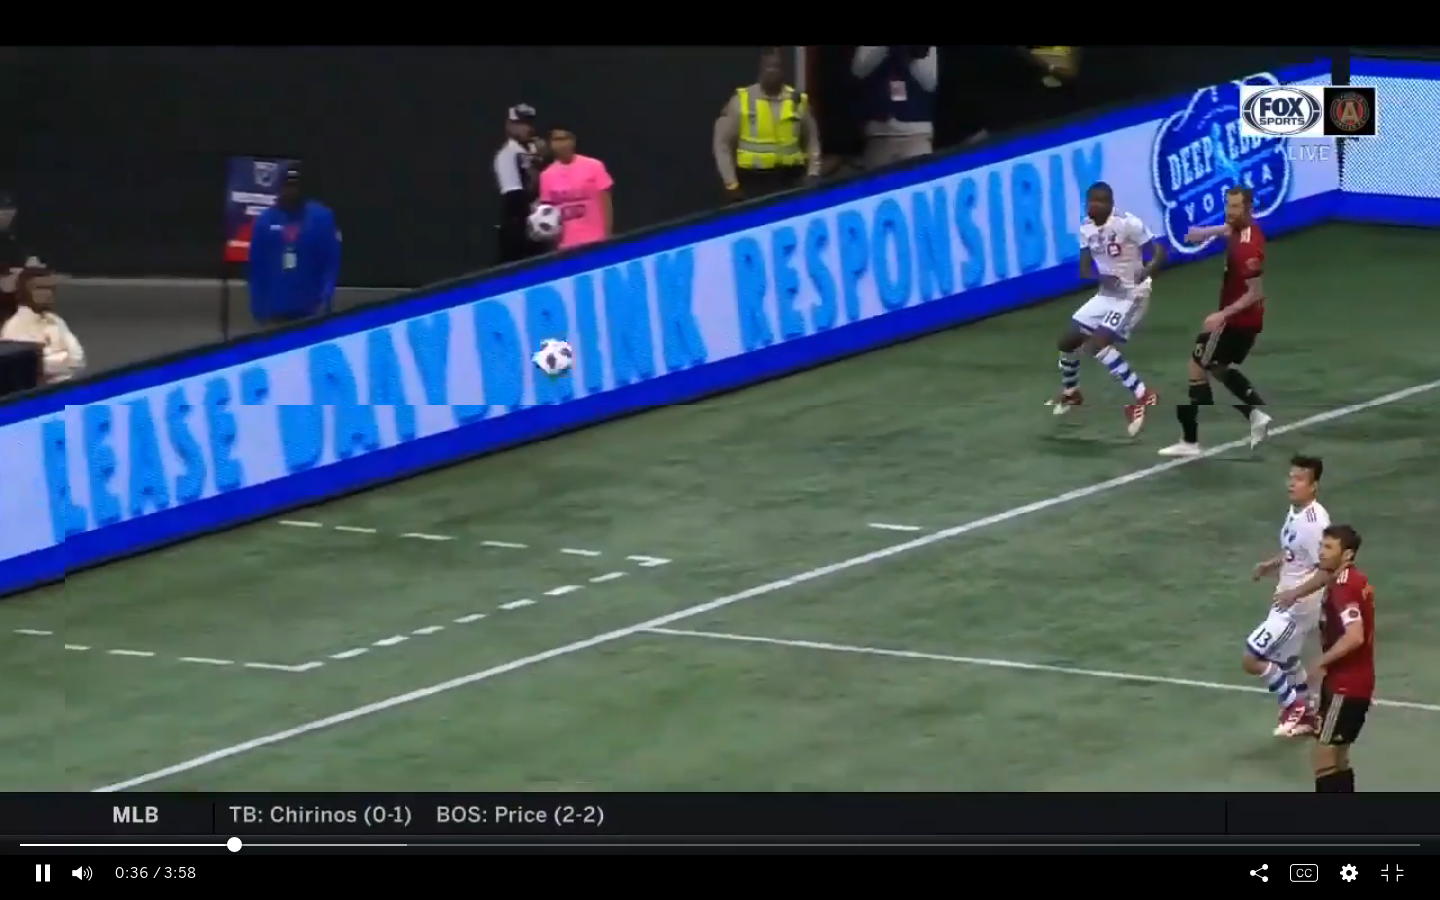soccer player: (1044, 172, 1167, 442), (1176, 183, 1288, 456), (1247, 443, 1333, 740), (1312, 523, 1382, 794)
soccerball: (527, 196, 565, 245), (532, 340, 575, 380)
